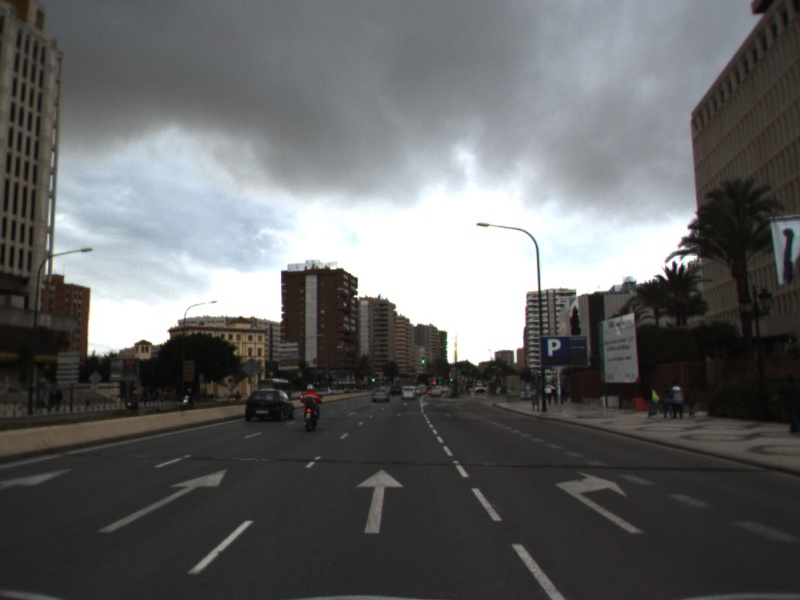RIGHT: (552, 468, 649, 536)
STRAIGHT: (95, 466, 231, 535), (353, 465, 407, 537), (1, 462, 81, 498)
